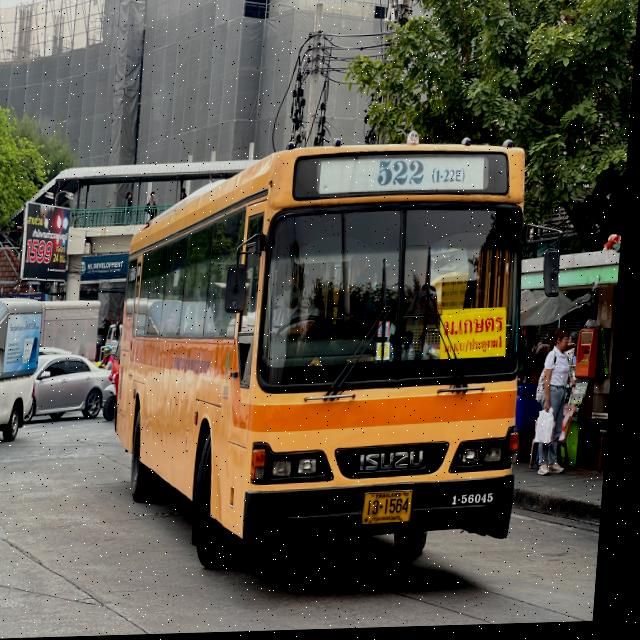BMTA-bus: (108, 126, 552, 579)
Bus-Line-Number: (375, 153, 475, 200)
Destination-Sign-Extra-Bus-Expressway: (442, 310, 515, 362)
